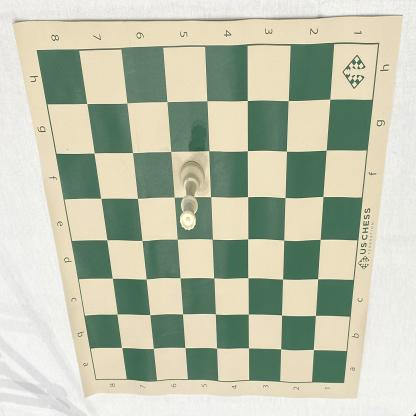white-queen: (179, 161, 205, 231)
